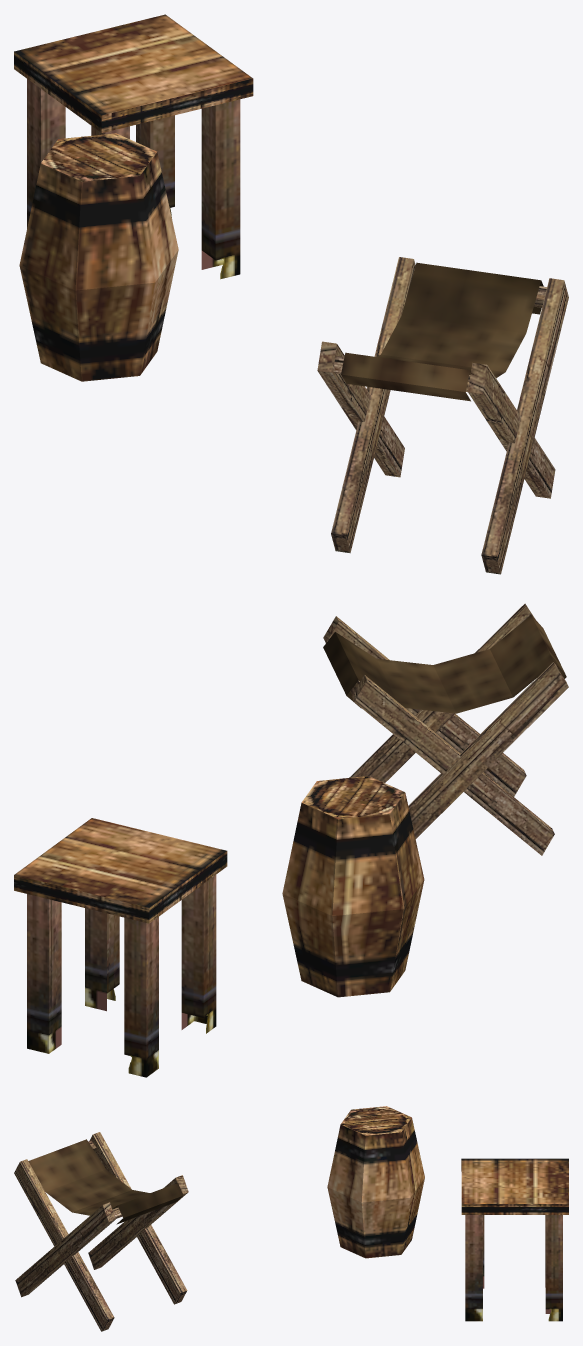
The model's file is rome_tent_b_props.dae.
3 renders of one model, top to bottom at view 1: azimuth 30°, elevation 25°; view 2: azimuth 150°, elevation 25°; view 3: azimuth 270°, elevation 25°, orthographic. The views are drawn at different scales.
Visible parts, largest first — view 1: Object003; view 2: Object003; view 3: Object003.
Part boxes in pixels (left/top/right/bottom): Object003: left=14, top=14, right=568, bottom=574; Object003: left=14, top=603, right=568, bottom=1077; Object003: left=14, top=1106, right=568, bottom=1331.
Bounding box in the file's own units: 2.85 × 1.98 × 6.99.
